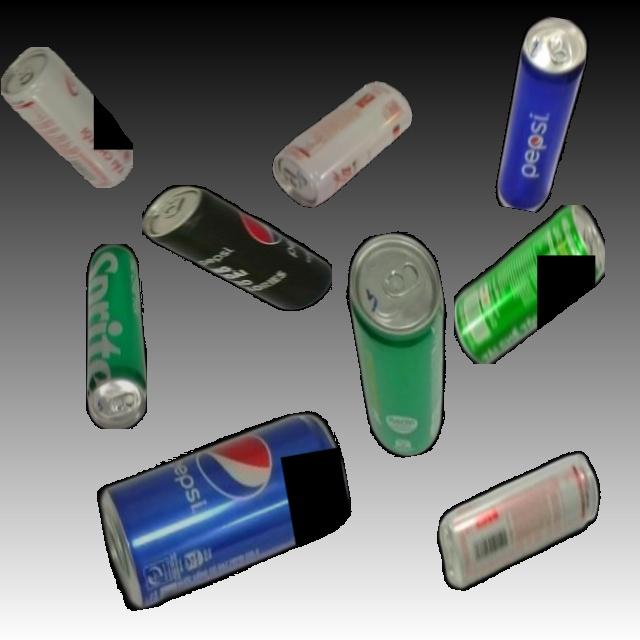debris: (89, 407, 363, 613), (429, 430, 607, 611), (337, 226, 470, 462), (453, 204, 605, 364), (141, 185, 332, 311), (267, 66, 417, 222), (493, 13, 593, 216), (0, 47, 133, 188), (85, 243, 147, 429)
